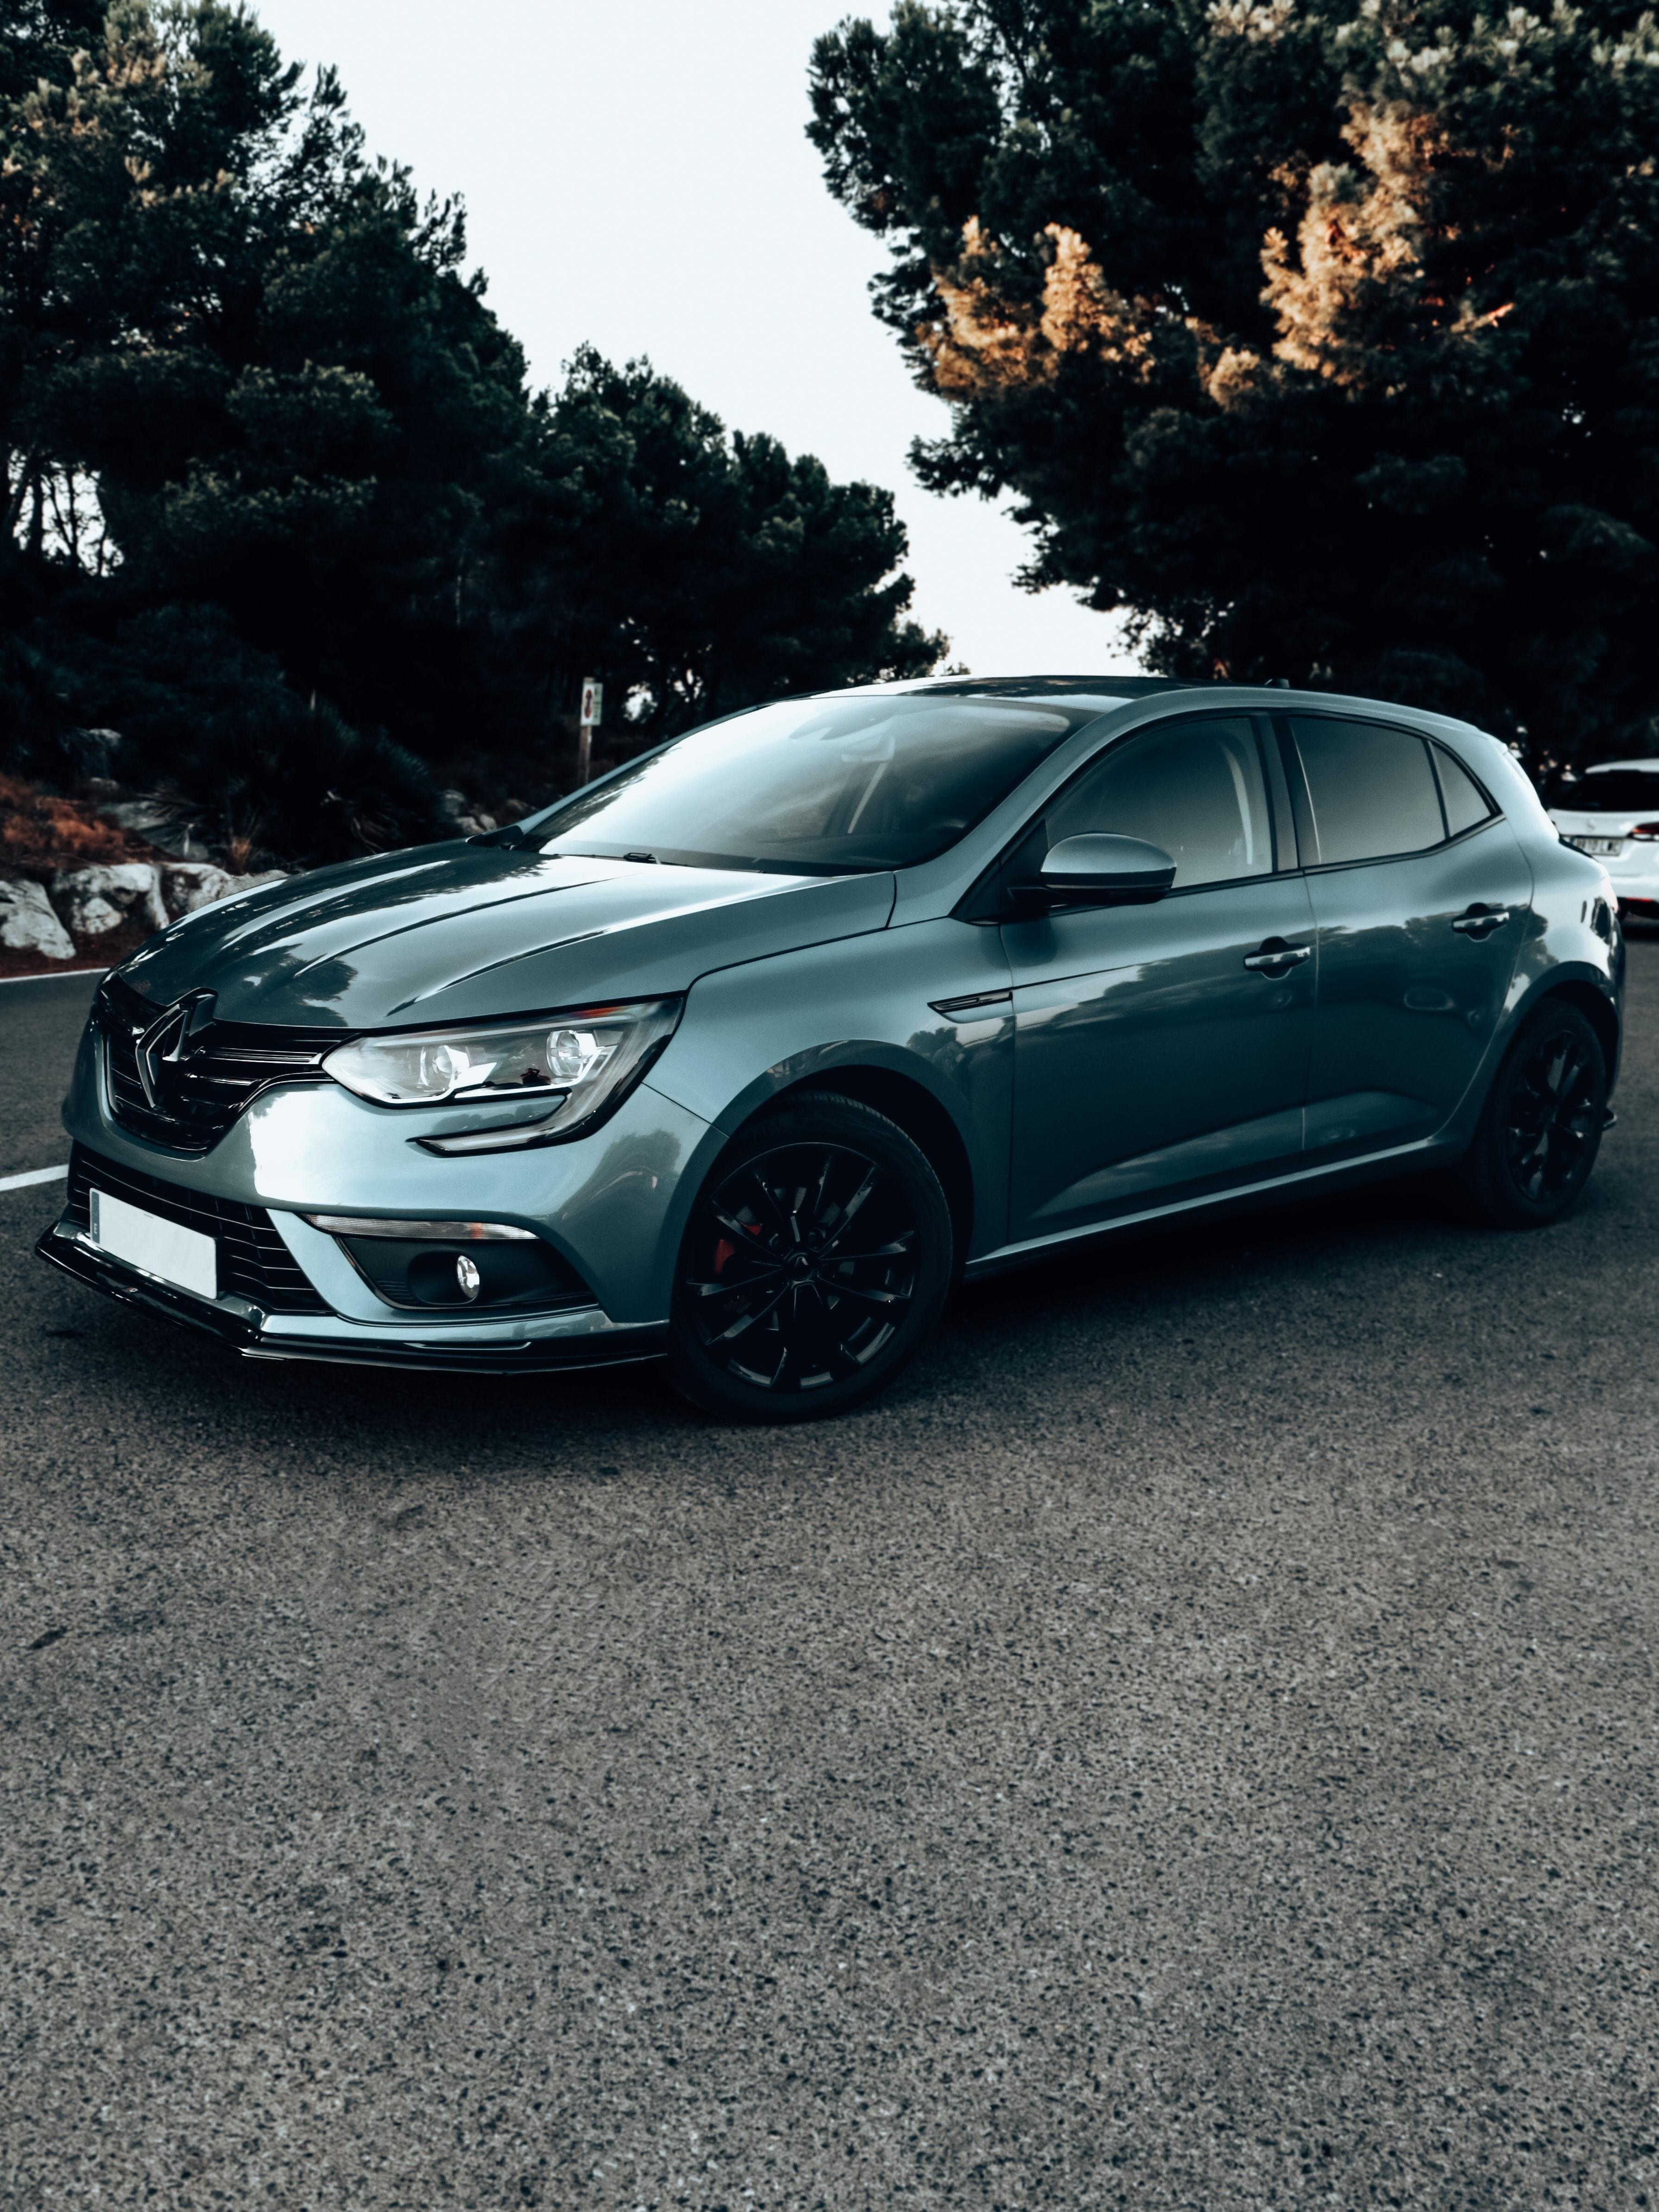Renault: (101, 981, 237, 1134)
